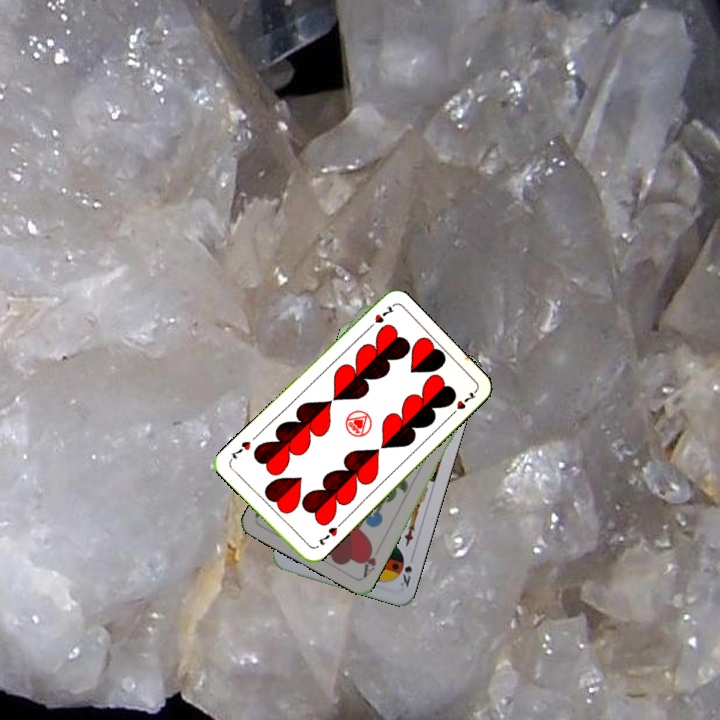H7: (363, 302, 397, 333), (314, 523, 340, 548)
HA: (359, 541, 383, 580)
SK: (396, 562, 415, 590)
